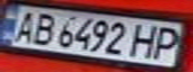2: (106, 19, 133, 56)
4: (72, 16, 93, 52)
6: (51, 15, 78, 48)
9: (87, 17, 112, 54)
A: (6, 9, 42, 44)
B: (27, 10, 60, 46)
H: (127, 21, 163, 60)
P: (148, 25, 184, 61)
